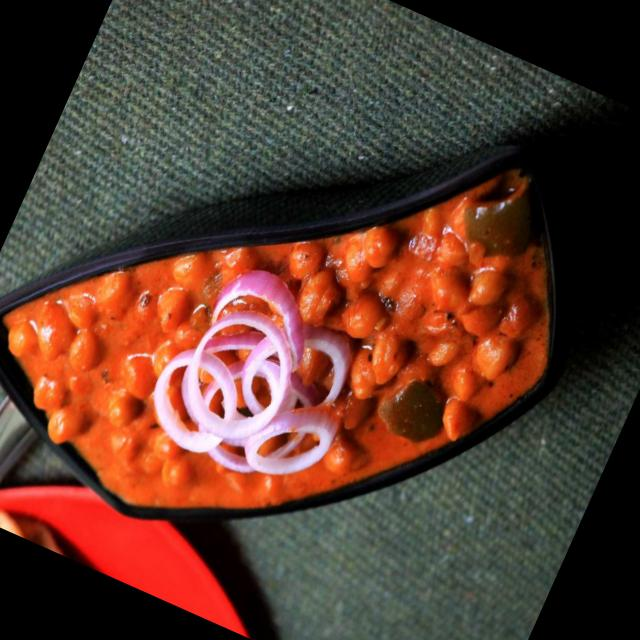Chole: (0, 7, 611, 635)
